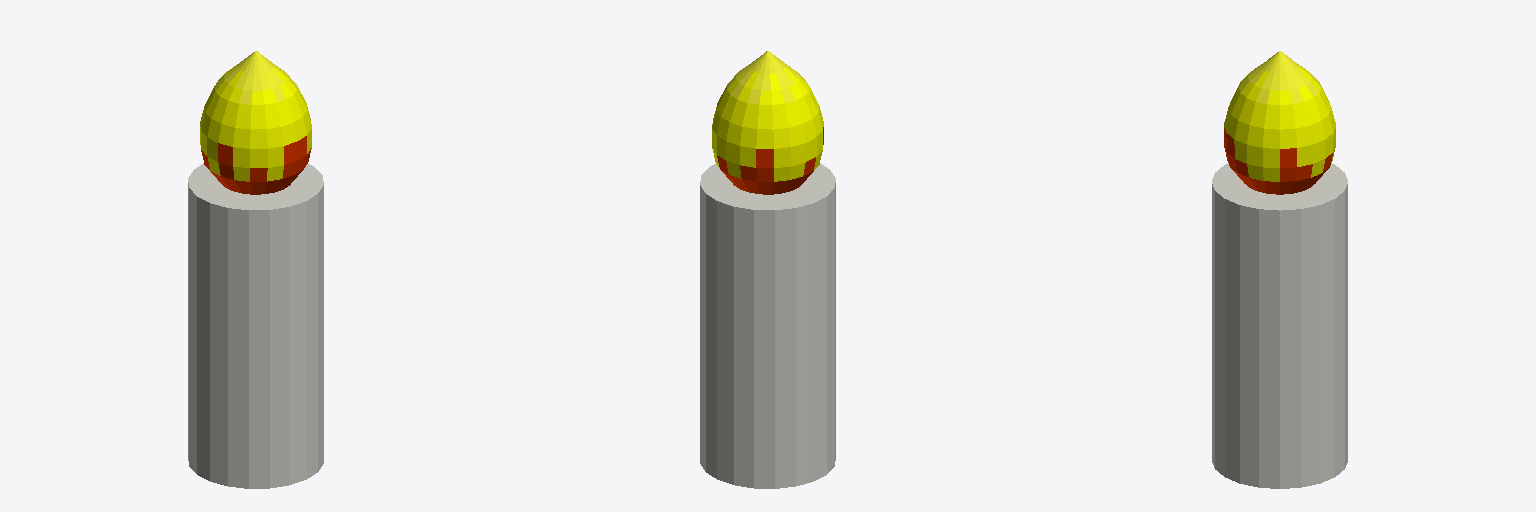
The model's file is candle.obj.
3 views of the same model, side by side, from view 1: azimuth 30°, elevation 25°; view 2: azimuth 150°, elevation 25°; view 3: azimuth 270°, elevation 25° (orthographic).
Parts seen in each view (by area): view 1: pCylinder3; view 2: pCylinder3; view 3: pCylinder3.
Part boxes in pixels (x1,y1,x2,y2): pCylinder3: (188,51,323,488); pCylinder3: (700,51,835,488); pCylinder3: (1212,51,1347,488).
Size of the model in its own units: 0.3398 by 1.12 by 0.3398.